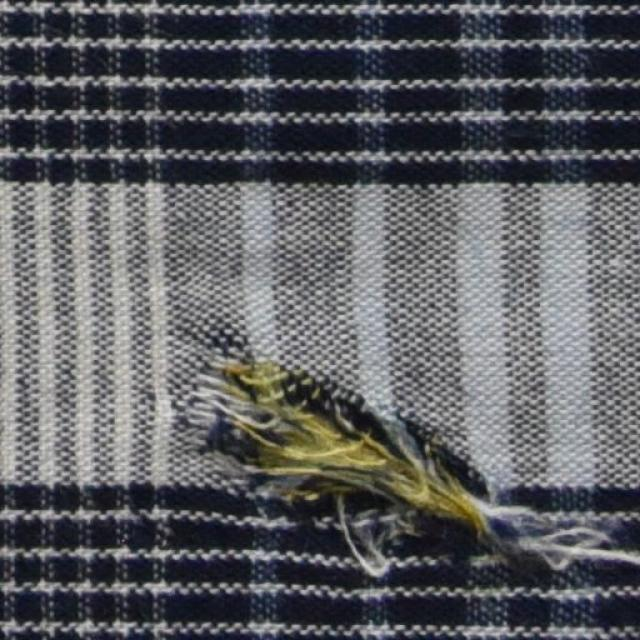Snag: (183, 348, 435, 549)
Stain: (250, 360, 466, 518)
